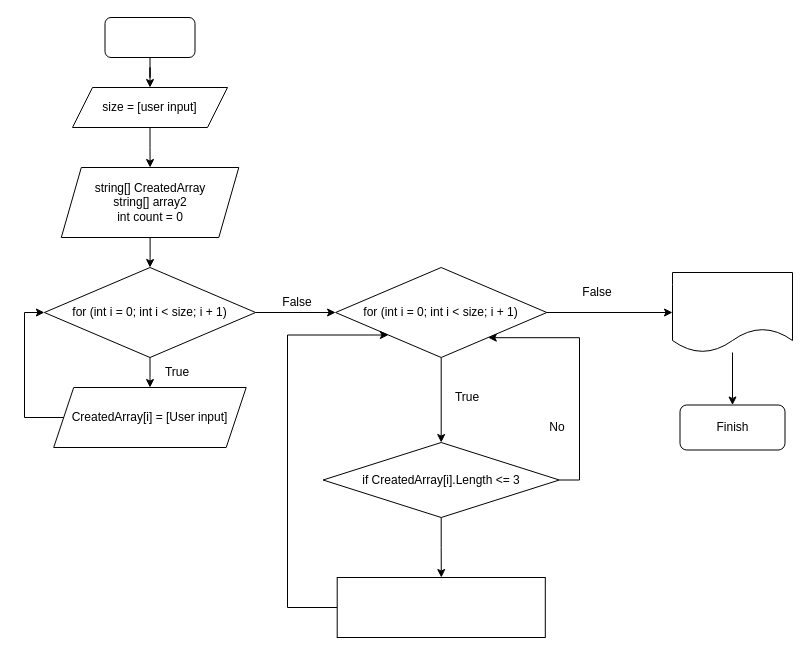
The diagram is 810 pixels wide and 655 high, and some of its shapes have lost their labels. Each missing label, with the centre of its shape:
"array2[count] = CreatedArray[i] count = count + 1" goes at (440,607).
"return CreatedArray return array2" goes at (732,312).
"Start" goes at (149,37).
